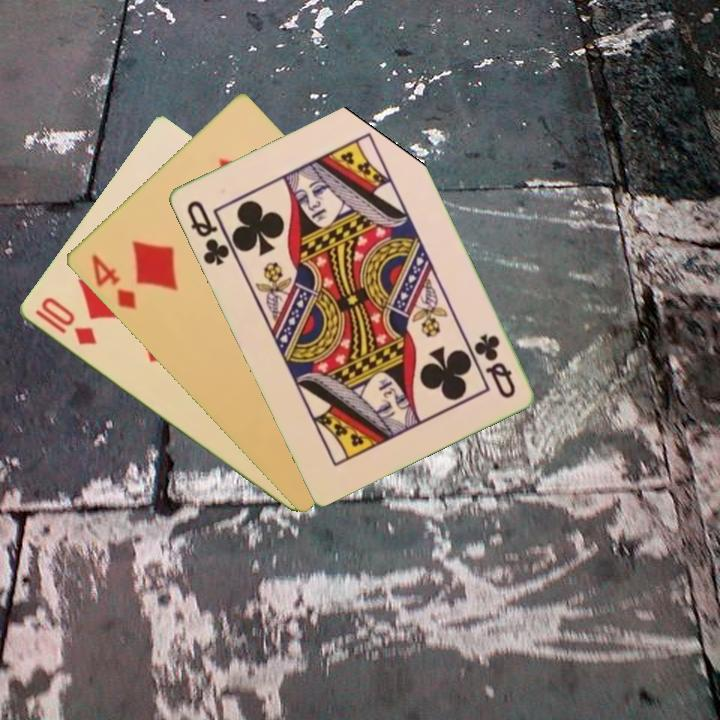10d: (30, 293, 100, 348)
4d: (87, 250, 139, 313)
Qc: (182, 196, 232, 269), (469, 330, 518, 402)
